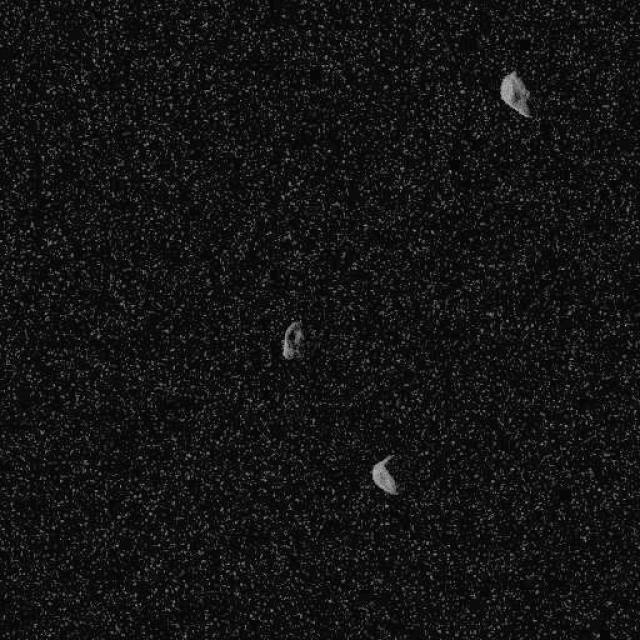D2: (498, 69, 532, 119), (370, 453, 399, 495), (281, 320, 305, 360)
